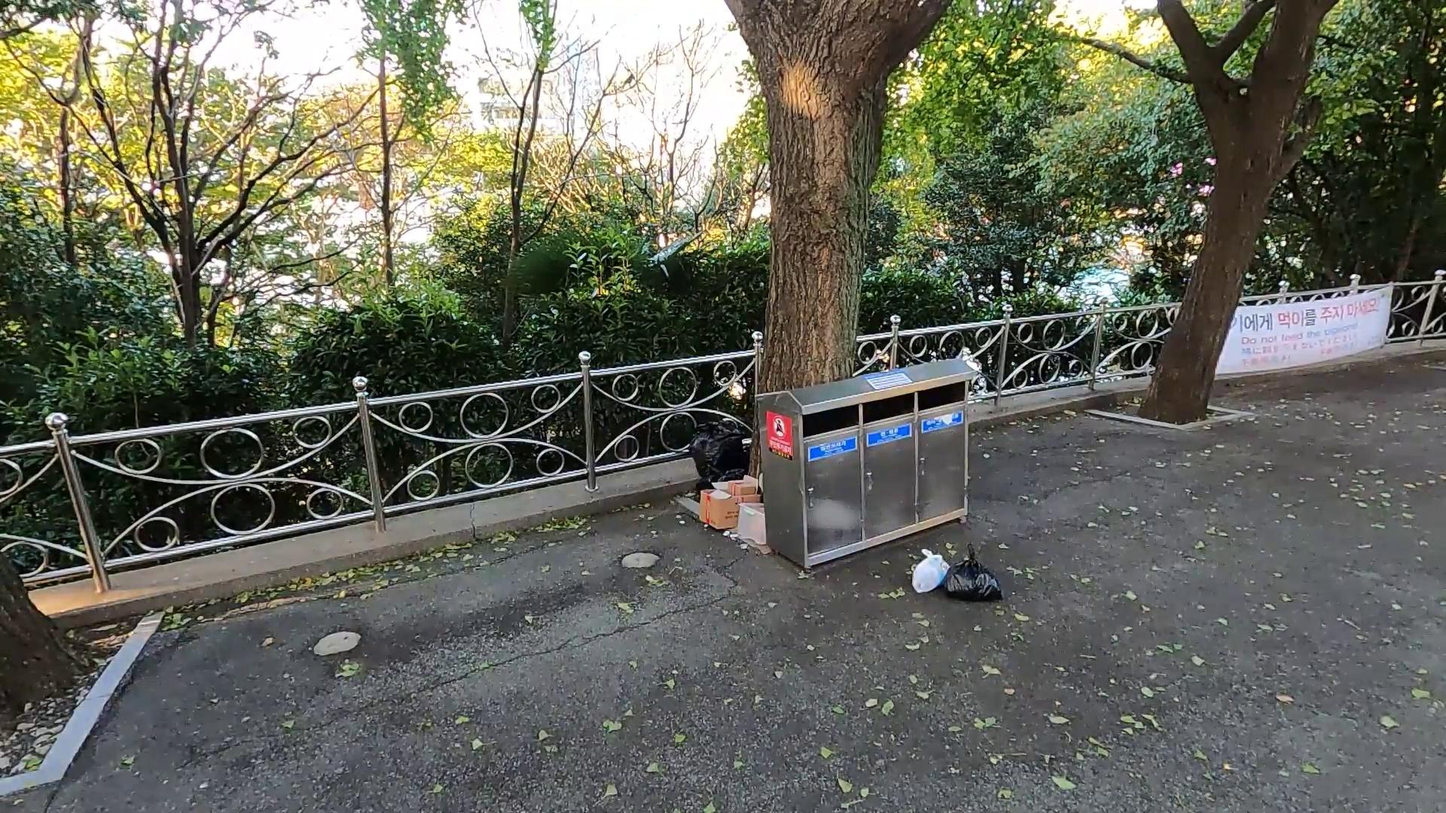trash: (941, 537, 1004, 606), (690, 427, 745, 503), (698, 484, 767, 533), (911, 543, 954, 597), (733, 499, 775, 553), (705, 464, 759, 501)
